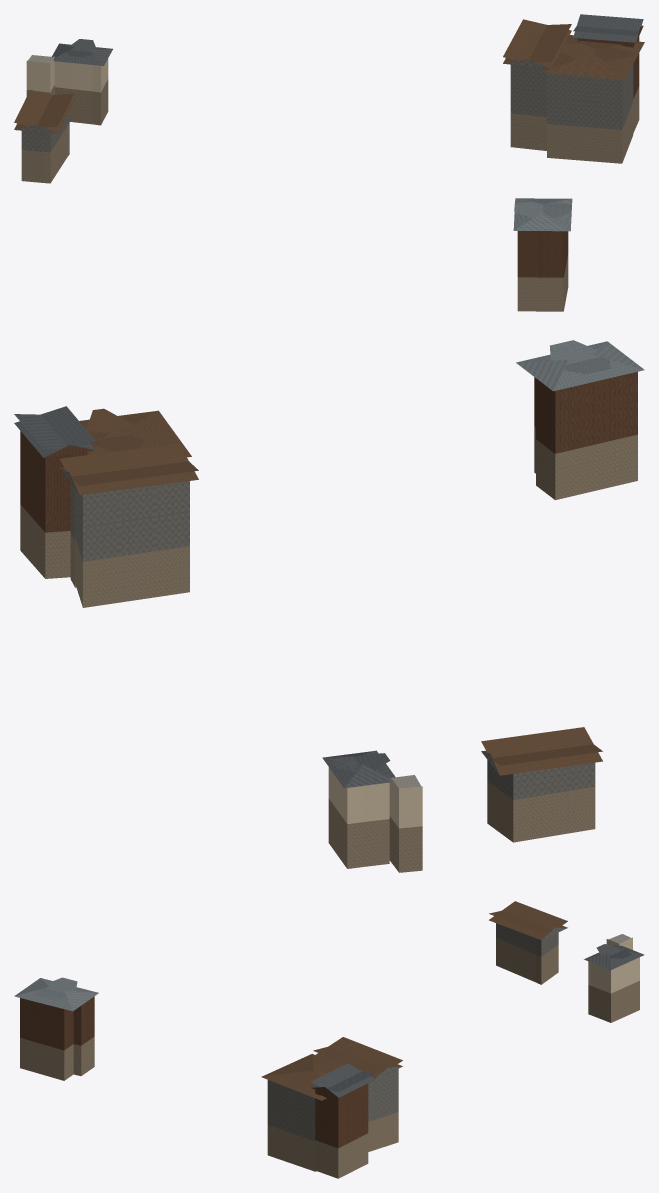
Rendered from bld_c40_33_291.gltf.
3 views of the same model, one above another, from view 1: azimuth 30°, elevation 25°; view 2: azimuth 150°, elevation 25°; view 3: azimuth 270°, elevation 25° (orthographic). The views are drawn at different scales.
Parts seen in each view (by area): view 1: bld_c40_33_291; view 2: bld_c40_33_291; view 3: bld_c40_33_291.
Part boxes in pixels (bbox=[...]): bld_c40_33_291: bbox=[14, 14, 644, 311]; bld_c40_33_291: bbox=[14, 340, 644, 872]; bld_c40_33_291: bbox=[14, 901, 644, 1178].
Bounding box in the file's own units: 83.34 × 16.5 × 95.8.
11 materials, 11 textured.
